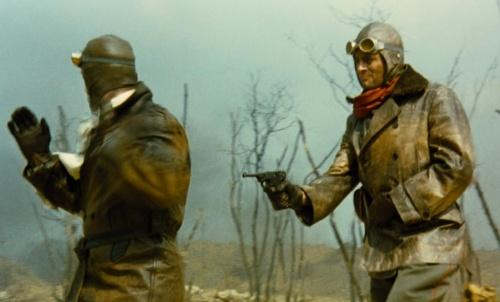Gun: (243, 169, 287, 193)
